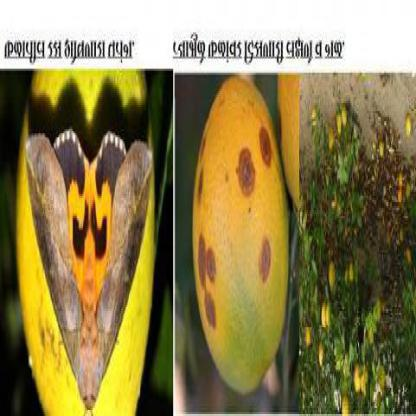fruit sucking moth: (26, 131, 150, 407)
